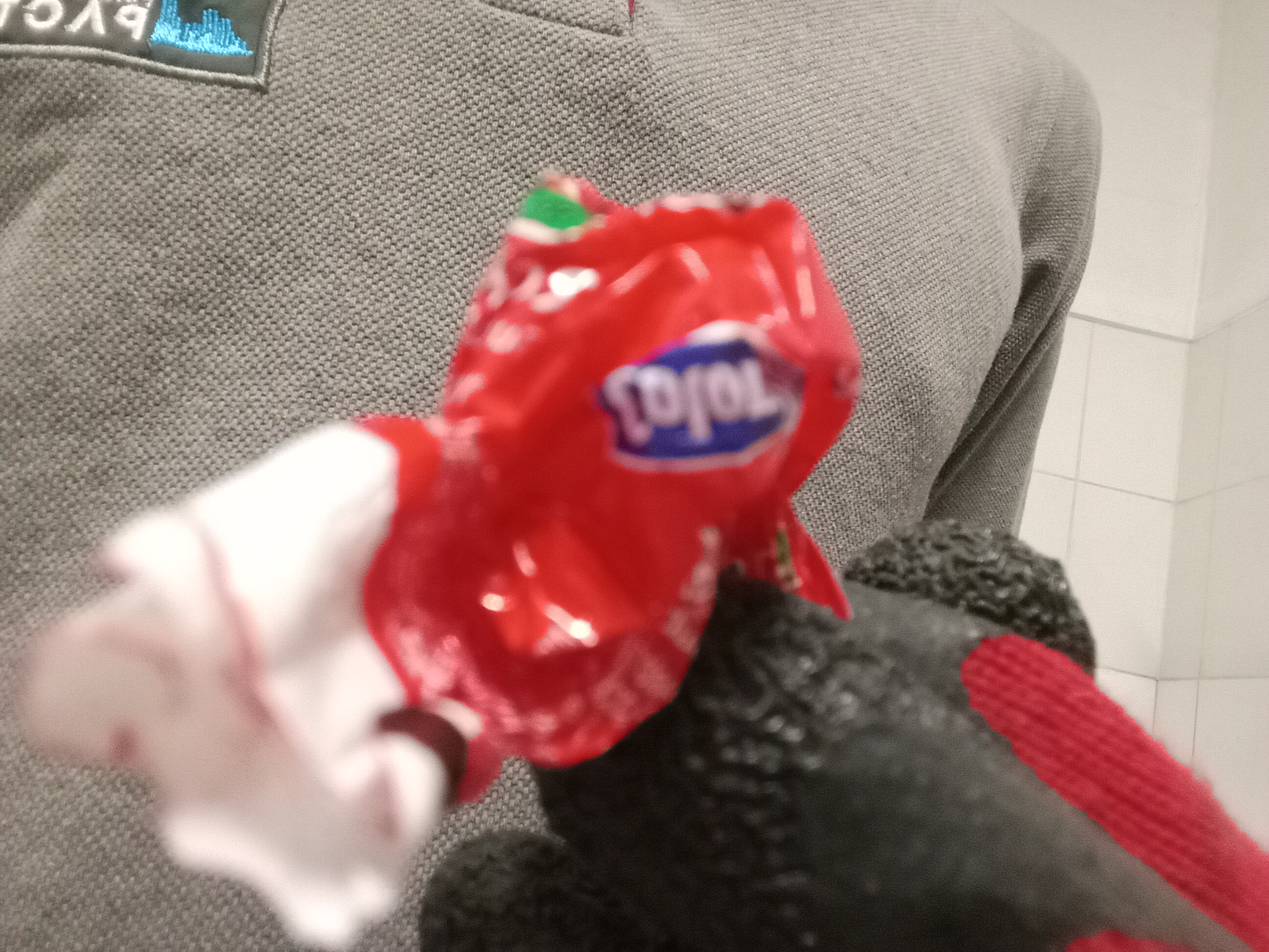Ordinario: (32, 170, 861, 948)
